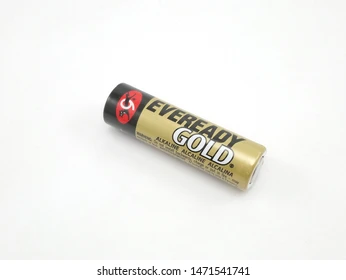toxic_waste: (124, 76, 289, 121)
